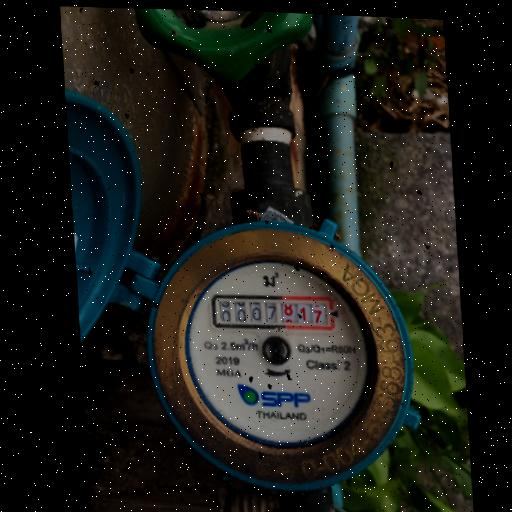0: (236, 302, 247, 323), (250, 303, 261, 324), (220, 303, 231, 322)
1: (297, 305, 309, 324)
7: (312, 305, 325, 324), (266, 303, 277, 324)
8: (282, 303, 294, 324)
border_water_meter_number: (211, 292, 336, 333)
